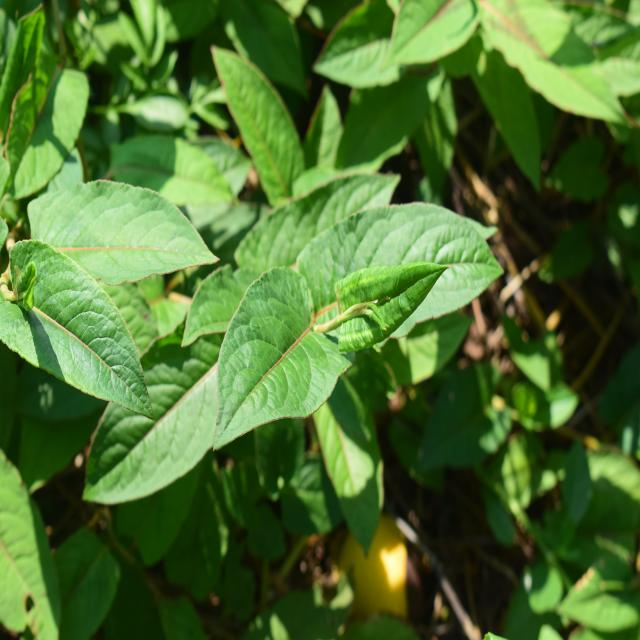Chinese_knotweed: (182, 180, 467, 475)
